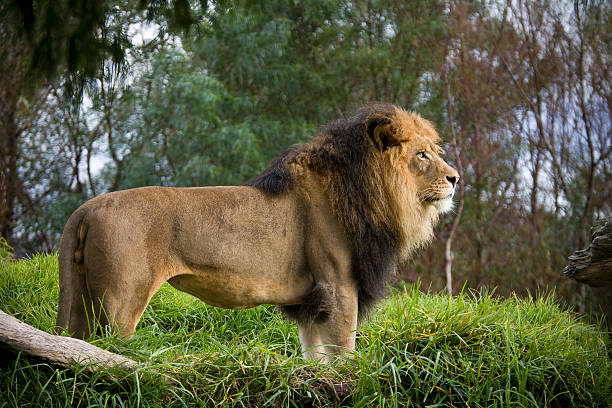lion: (301, 86, 471, 319)
